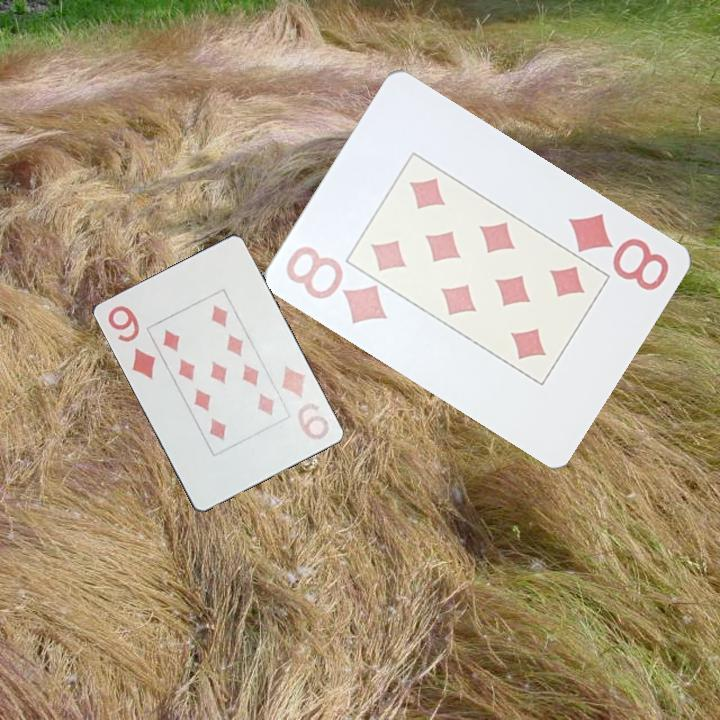8d: (281, 242, 390, 327), (563, 209, 672, 294)
9d: (277, 362, 336, 443), (104, 302, 158, 383)
